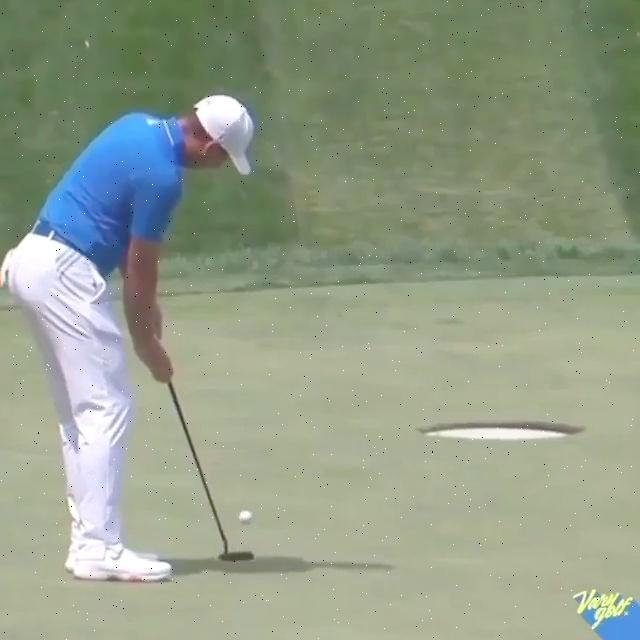golf ball: (238, 510, 254, 526)
golf club-handle: (170, 383, 256, 562)
golf club-head: (217, 551, 256, 563)
